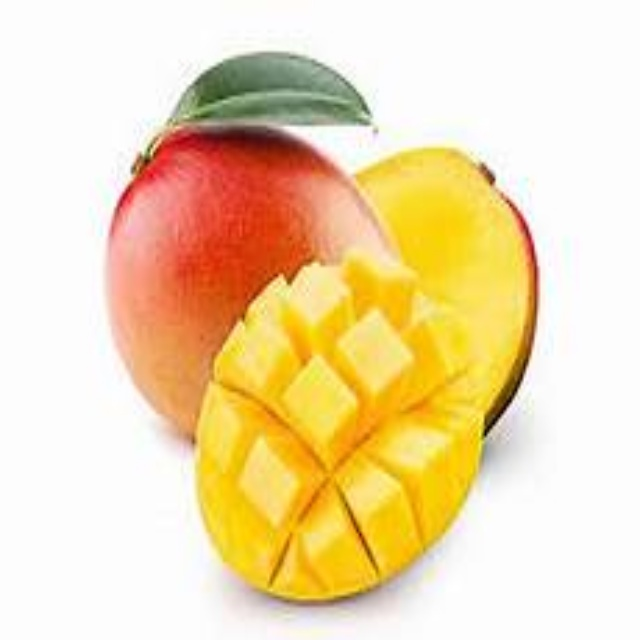mango: (116, 133, 545, 599)
